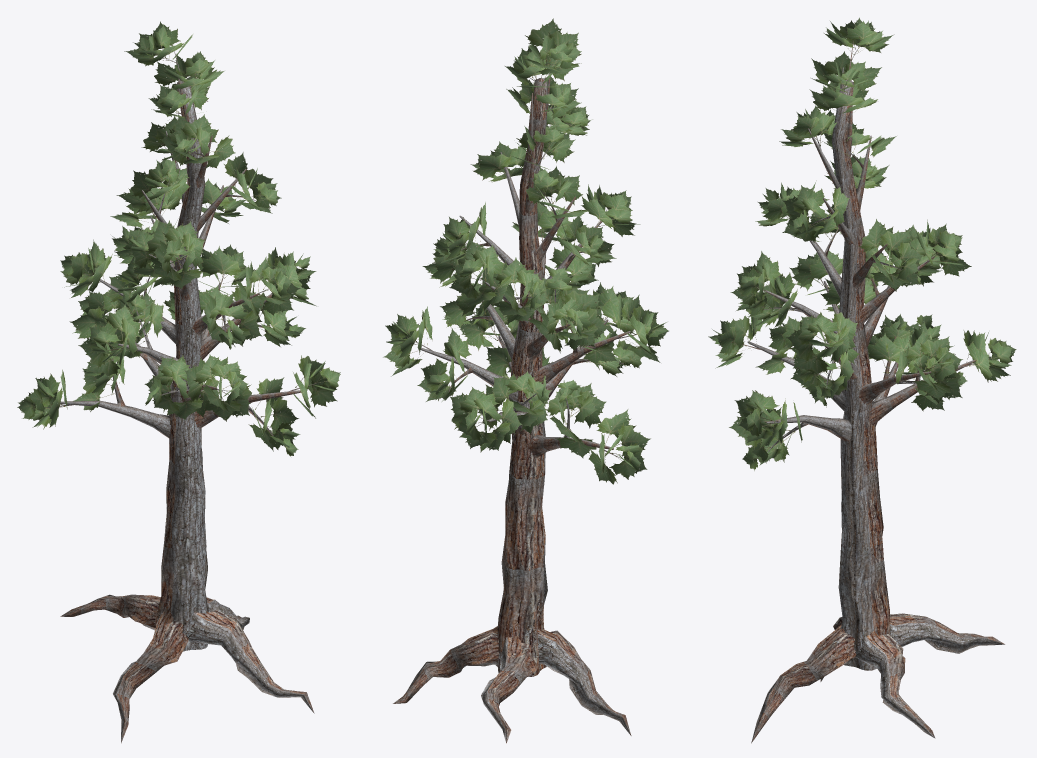
File: Tree1.fbx
3 renders of one model, left to right at view 1: azimuth 30°, elevation 25°; view 2: azimuth 150°, elevation 25°; view 3: azimuth 270°, elevation 25°, orthographic. The views are drawn at different scales.
Visible parts, largest first — view 1: Tree_1, Tree_0; view 2: Tree_1, Tree_0; view 3: Tree_1, Tree_0.
Boxes of the visible parts, x1,y1,x2,y2 form: Tree_1: [17, 21, 340, 456]; Tree_0: [45, 45, 320, 743]; Tree_1: [383, 18, 668, 484]; Tree_0: [393, 60, 636, 743]; Tree_1: [708, 17, 1016, 470]; Tree_0: [742, 41, 1004, 743].
Bounding box in the file's own units: 73.97 × 188 × 77.92.
